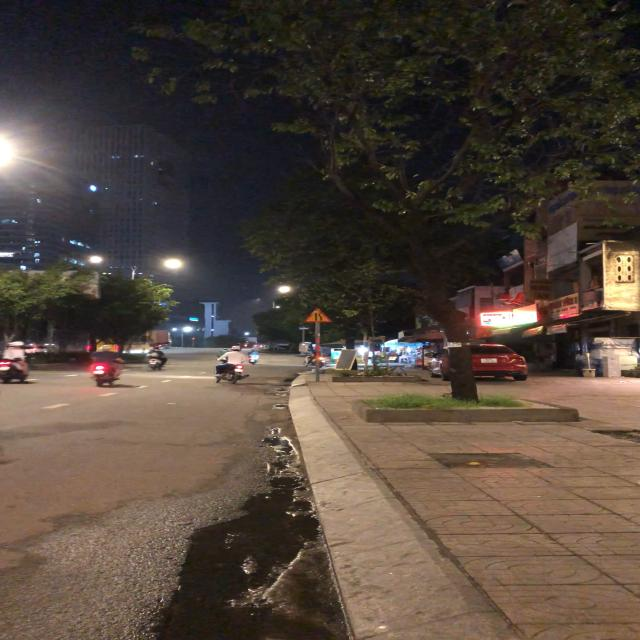Bien bao duong bi thu hep: (300, 306, 334, 323)
